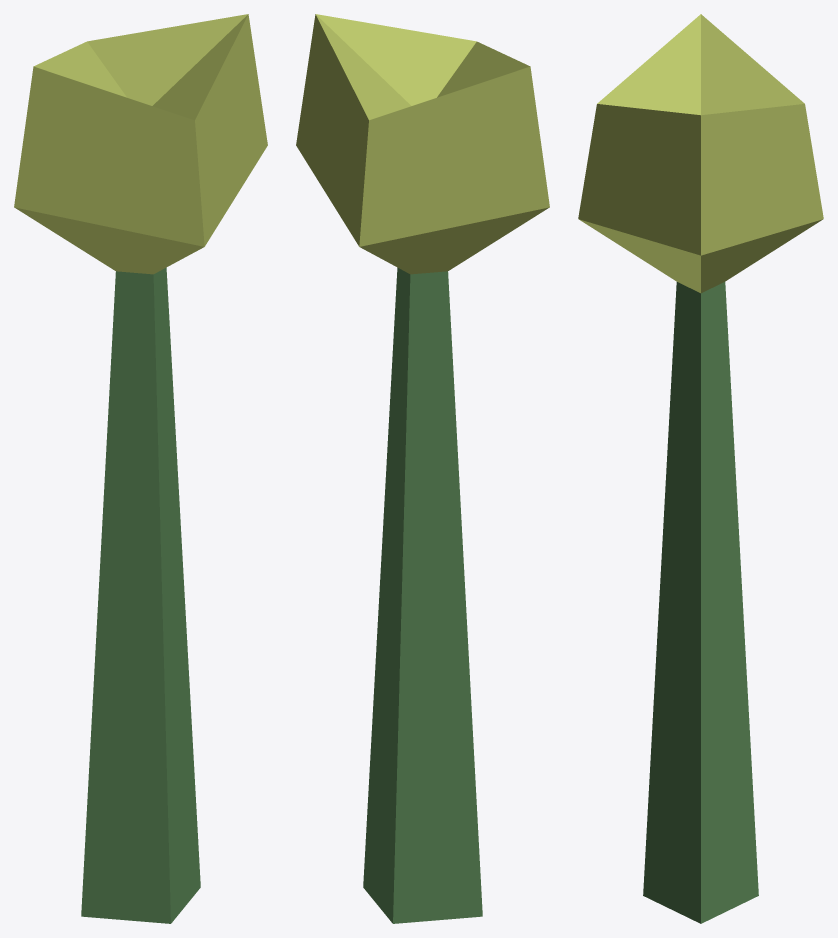
Rendered from flower4.fbx.
The picture shows the model from 3 angles, left to right: view 1: azimuth 30°, elevation 25°; view 2: azimuth 150°, elevation 25°; view 3: azimuth 270°, elevation 25°; orthographic projection. The views are drawn at different scales.
Parts seen in each view (by area): view 1: flower4; view 2: flower4; view 3: flower4.
Part boxes in pixels (box(x1,y1,x2,y2)): flower4: box(14, 14, 267, 923); flower4: box(296, 14, 549, 923); flower4: box(578, 14, 823, 923).
Size of the model in its own units: 7.64 by 24.76 by 6.63.
